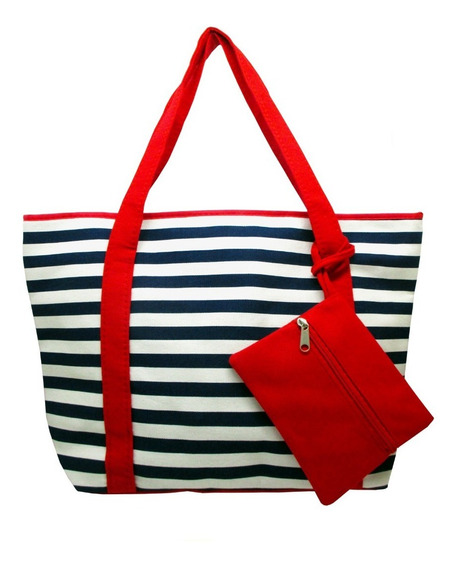cartera: (22, 28, 423, 498)
